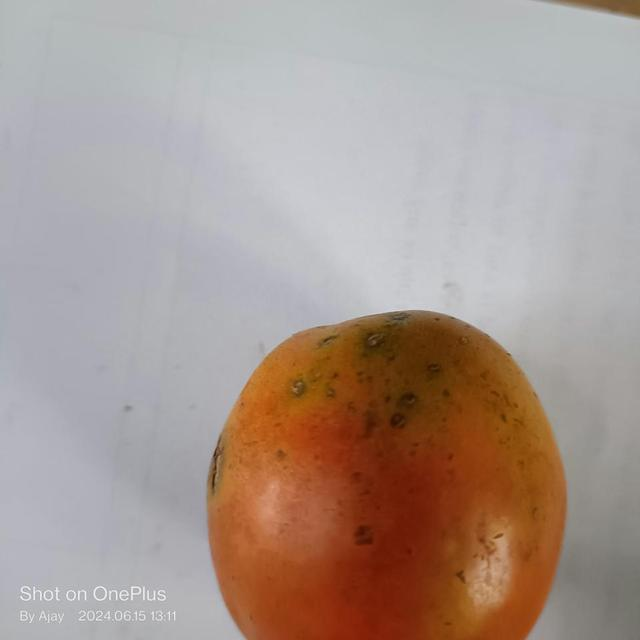Bacterial Spot Fruit: (15, 17, 266, 355)
